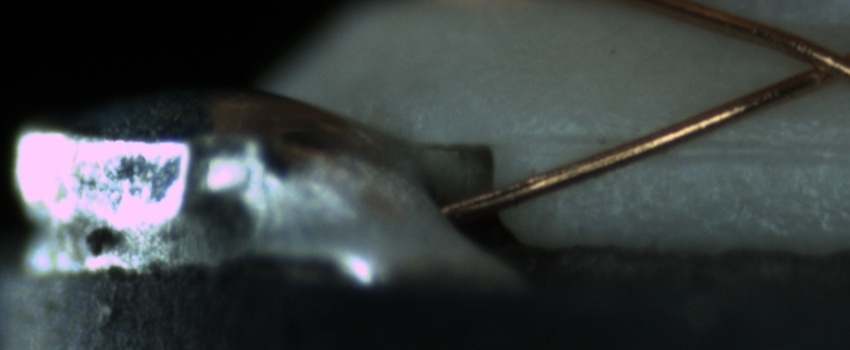CL: (777, 31, 848, 94)
DL: (527, 114, 846, 177)
